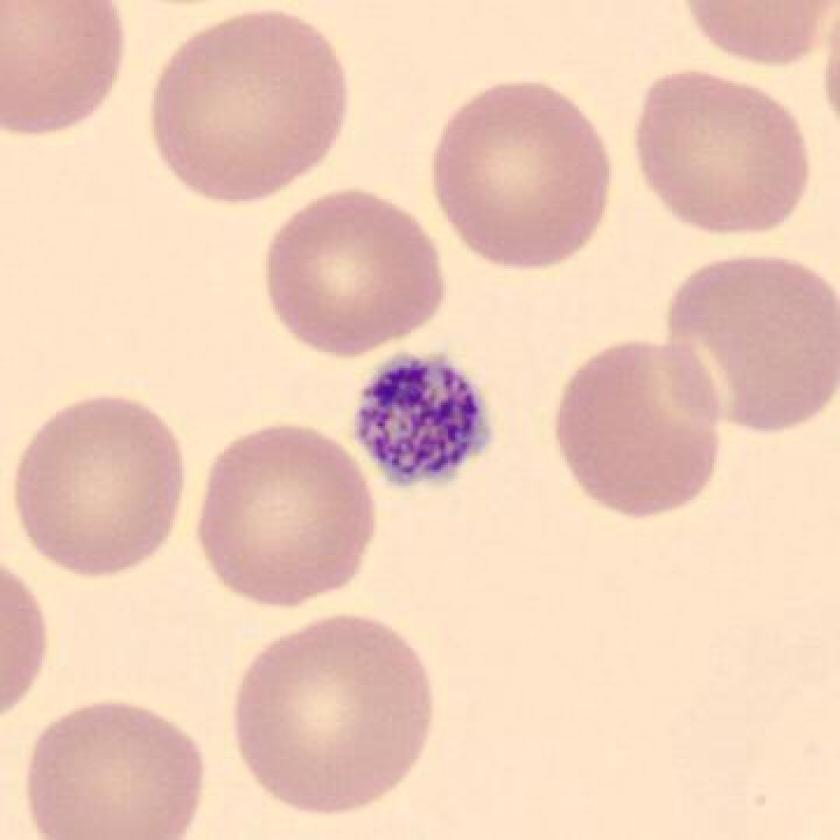platelets: (344, 336, 500, 501)
